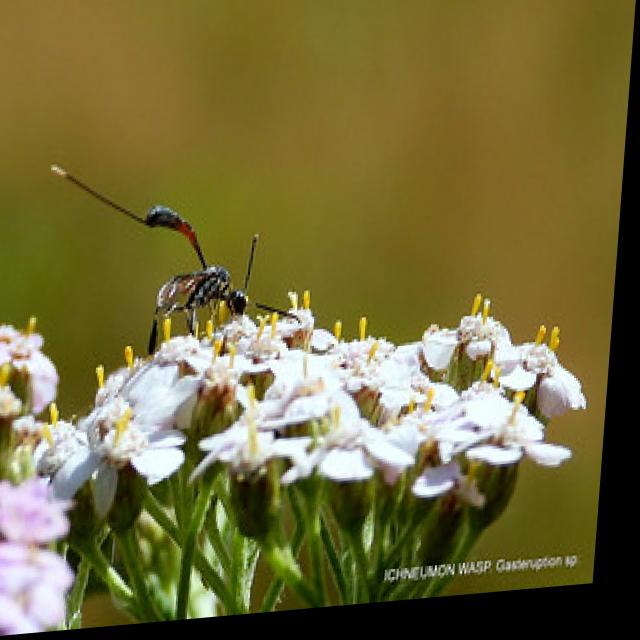Guepe: (34, 131, 318, 375)
